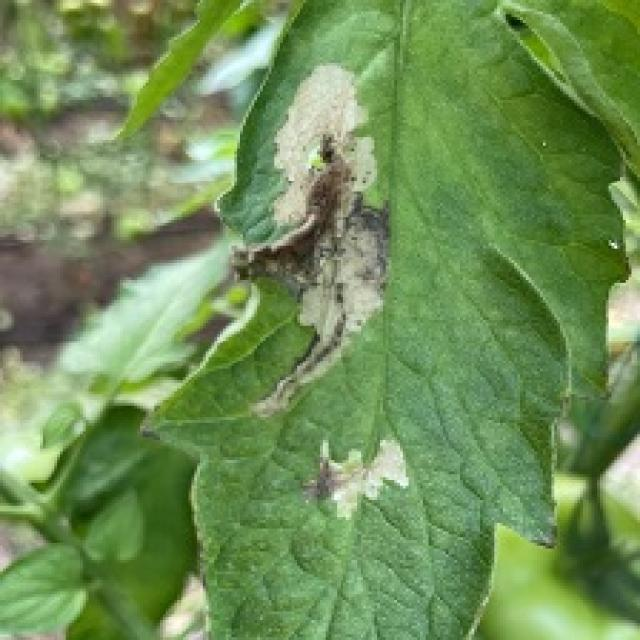Tuta absoluta: (211, 59, 412, 415), (297, 431, 417, 527)
